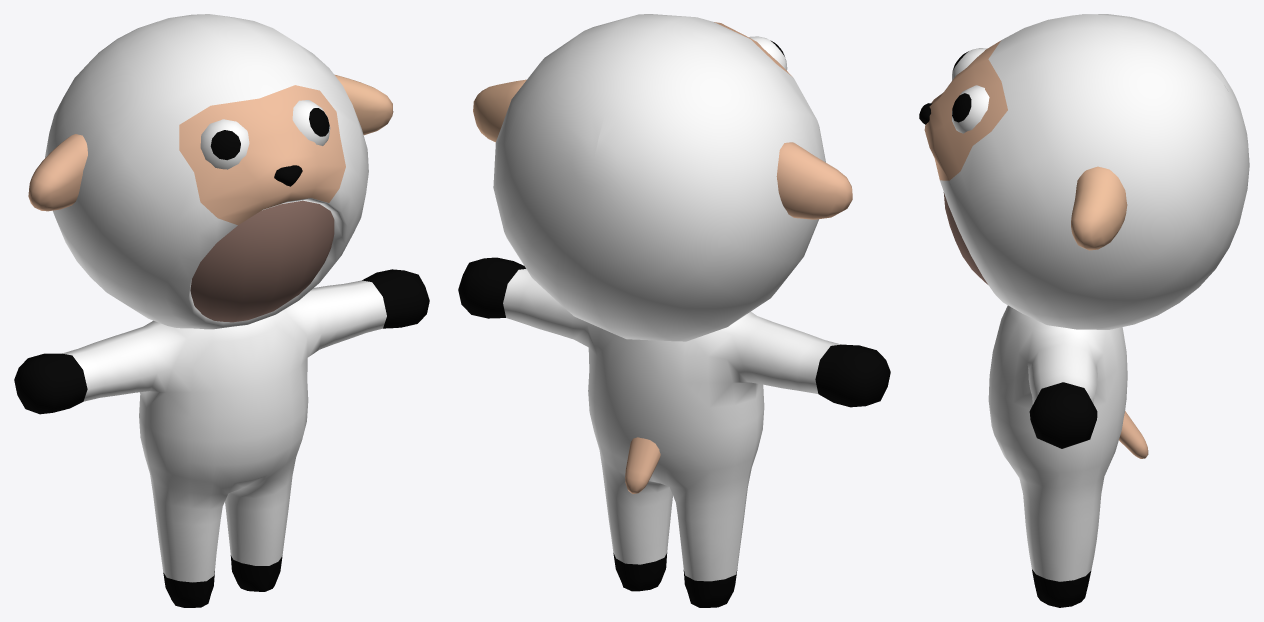
The model's file is sheep_cloth.fbx.
3 renders of one model, left to right at view 1: azimuth 30°, elevation 25°; view 2: azimuth 150°, elevation 25°; view 3: azimuth 270°, elevation 25°, orthographic. The views are drawn at different scales.
Parts seen in each view (by area): view 1: Client, sheep_cloth; view 2: Client; view 3: Client, sheep_cloth.
Part boxes in pixels (box(x1,y1,x2,y2)): Client: box(14, 14, 429, 607); sheep_cloth: box(190, 200, 334, 322); Client: box(458, 14, 890, 607); Client: box(919, 14, 1249, 607); sheep_cloth: box(943, 192, 987, 284).
Bounding box in the file's own units: 225 × 296 × 159.
